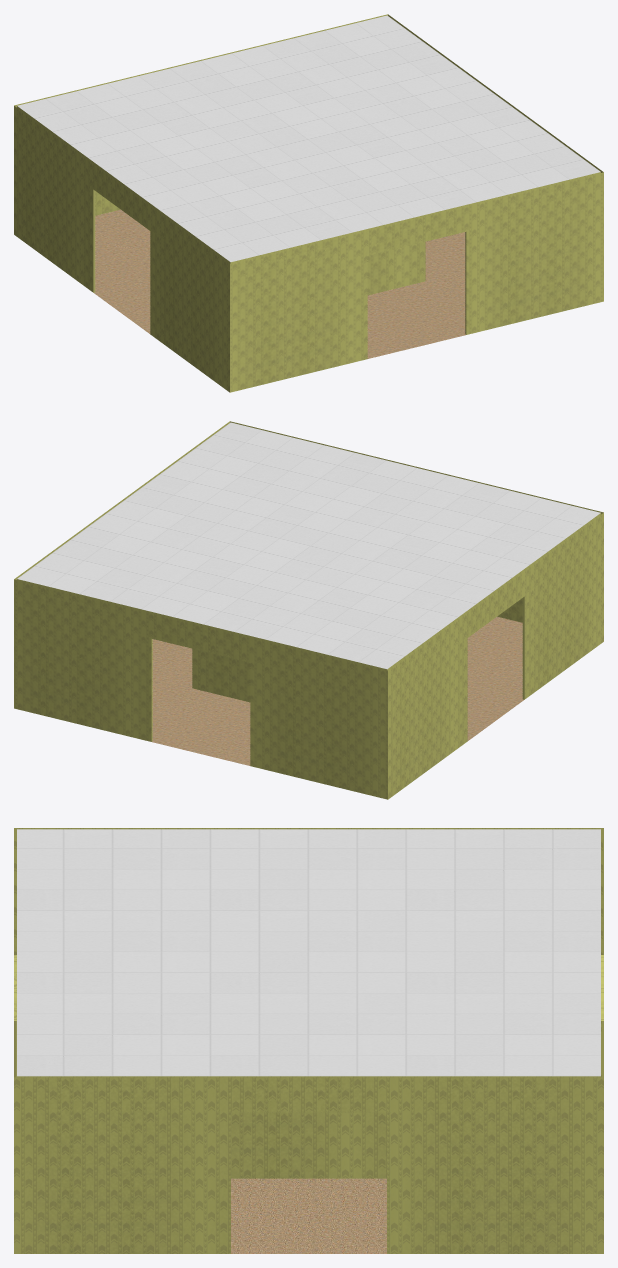
File: 4exittrap.glb
3 views of the same model, one above another, from view 1: azimuth 30°, elevation 25°; view 2: azimuth 150°, elevation 25°; view 3: azimuth 270°, elevation 25° (orthographic). The views are drawn at different scales.
Parts seen in each view (by area): view 1: 4exittrap; view 2: 4exittrap; view 3: 4exittrap.
Part boxes in pixels (bbox=[...]): 4exittrap: bbox=[14, 14, 603, 392]; 4exittrap: bbox=[14, 421, 603, 799]; 4exittrap: bbox=[14, 828, 603, 1253].
Size of what is drawn, in the model's own units: 15.15 by 5 by 15.15.
3 materials, 3 textured.
